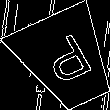P_SE: (35, 29, 98, 91)
